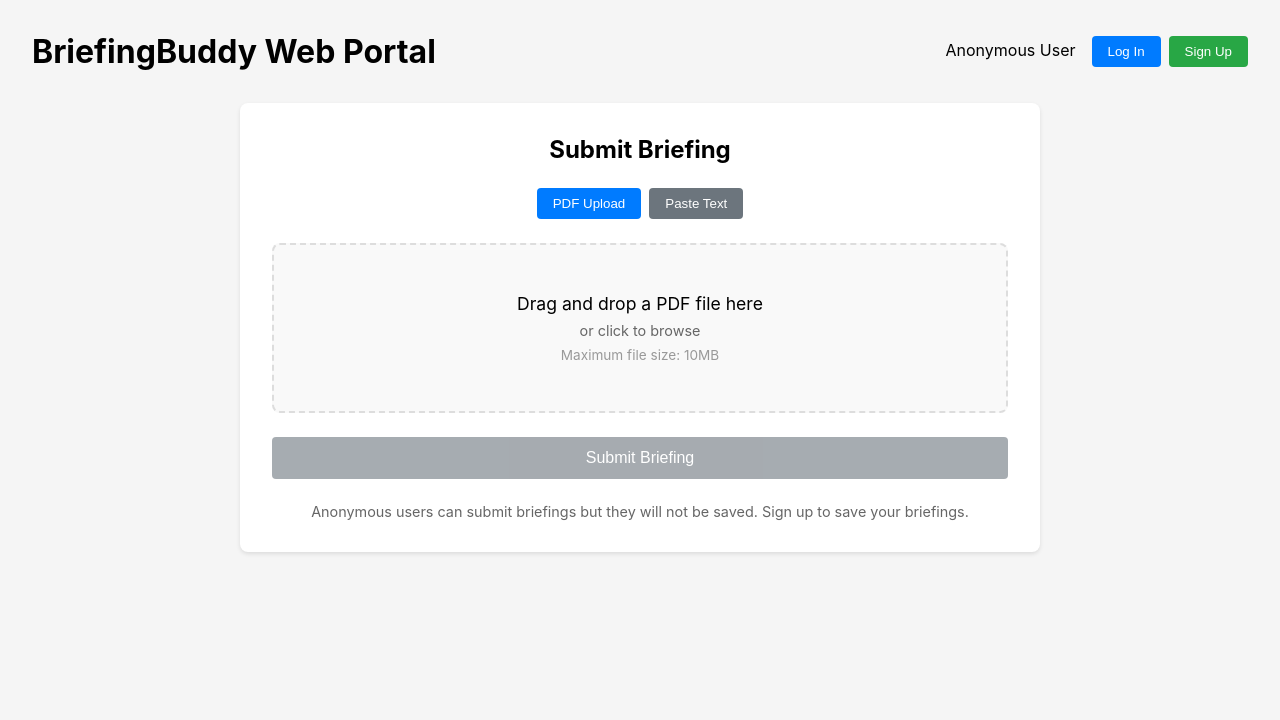
Test: HomePage - Briefing Input › Submit Button › should be enabled when valid text is pasted
Click the button "Paste Text" at (696, 204), box [649,188,743,219]
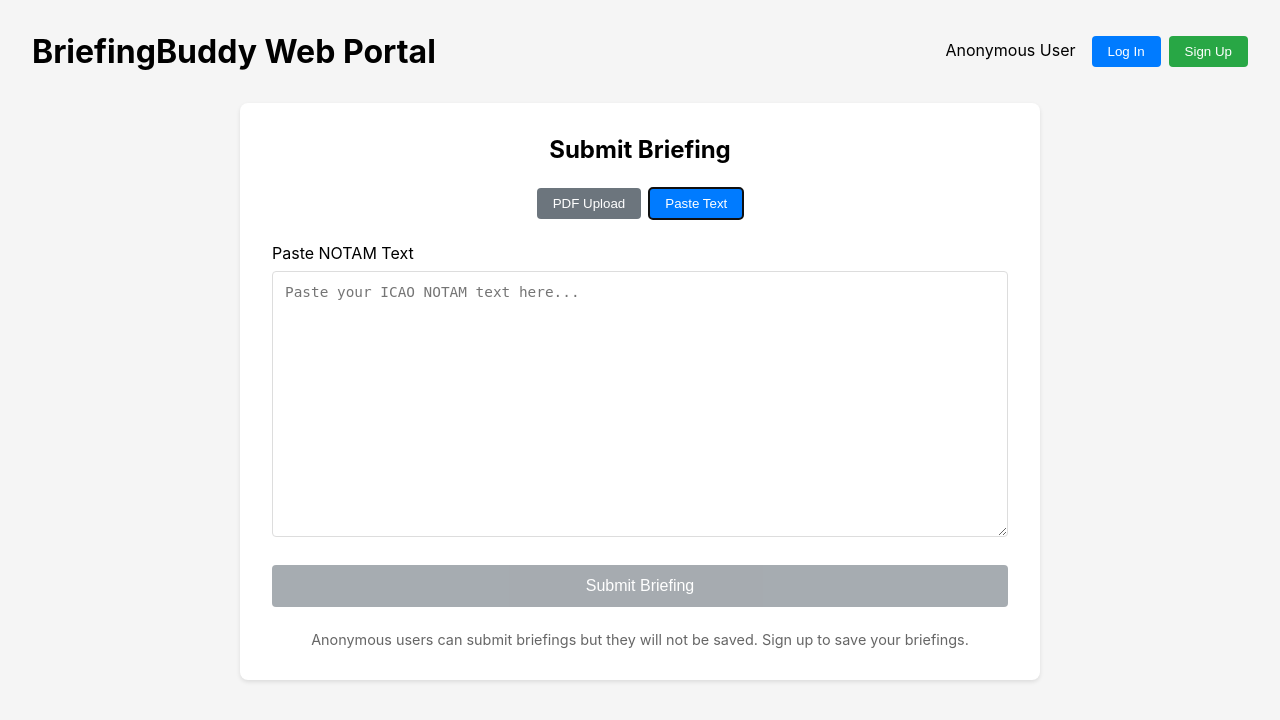
Type "NOTAM text" into the text box labelled "Paste NOTAM Text" at (640, 404), box [272,271,1008,537]
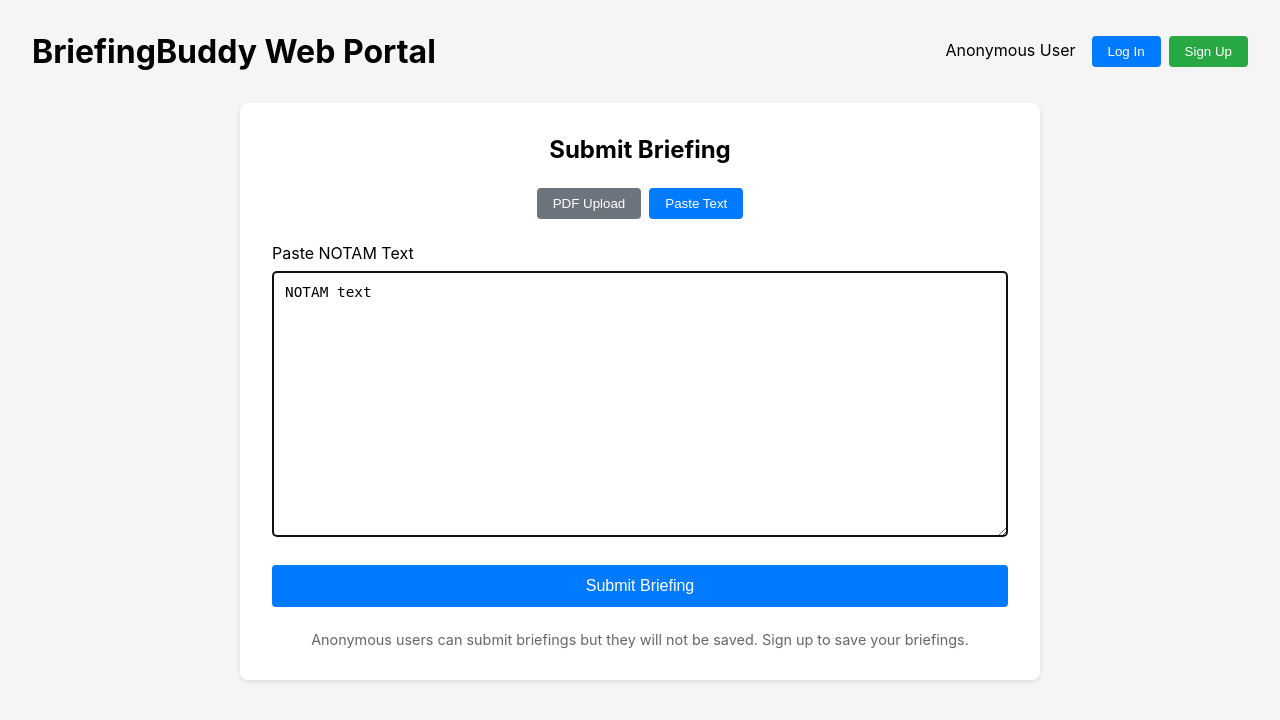
Check: the button "Submit Briefing" is enabled, box [272,565,1008,607]
